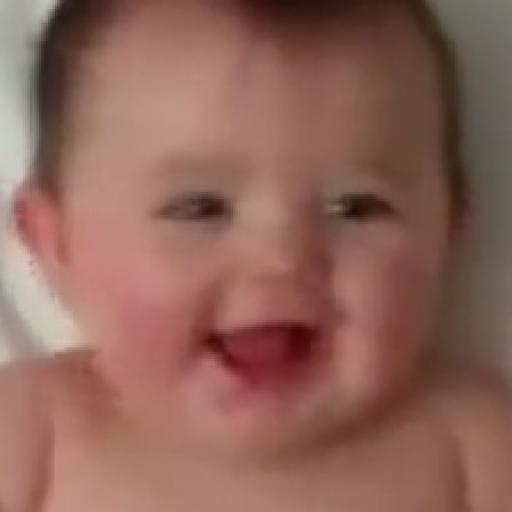Autism: (25, 14, 512, 494)
